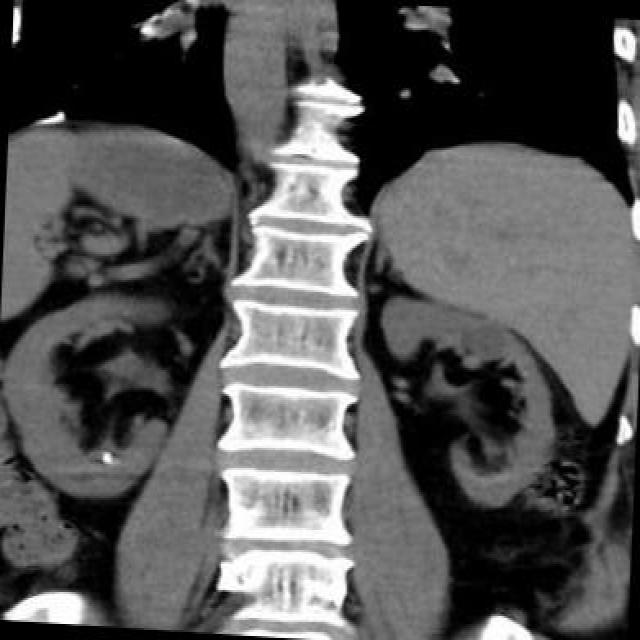Tas_Var: (98, 449, 115, 467)
